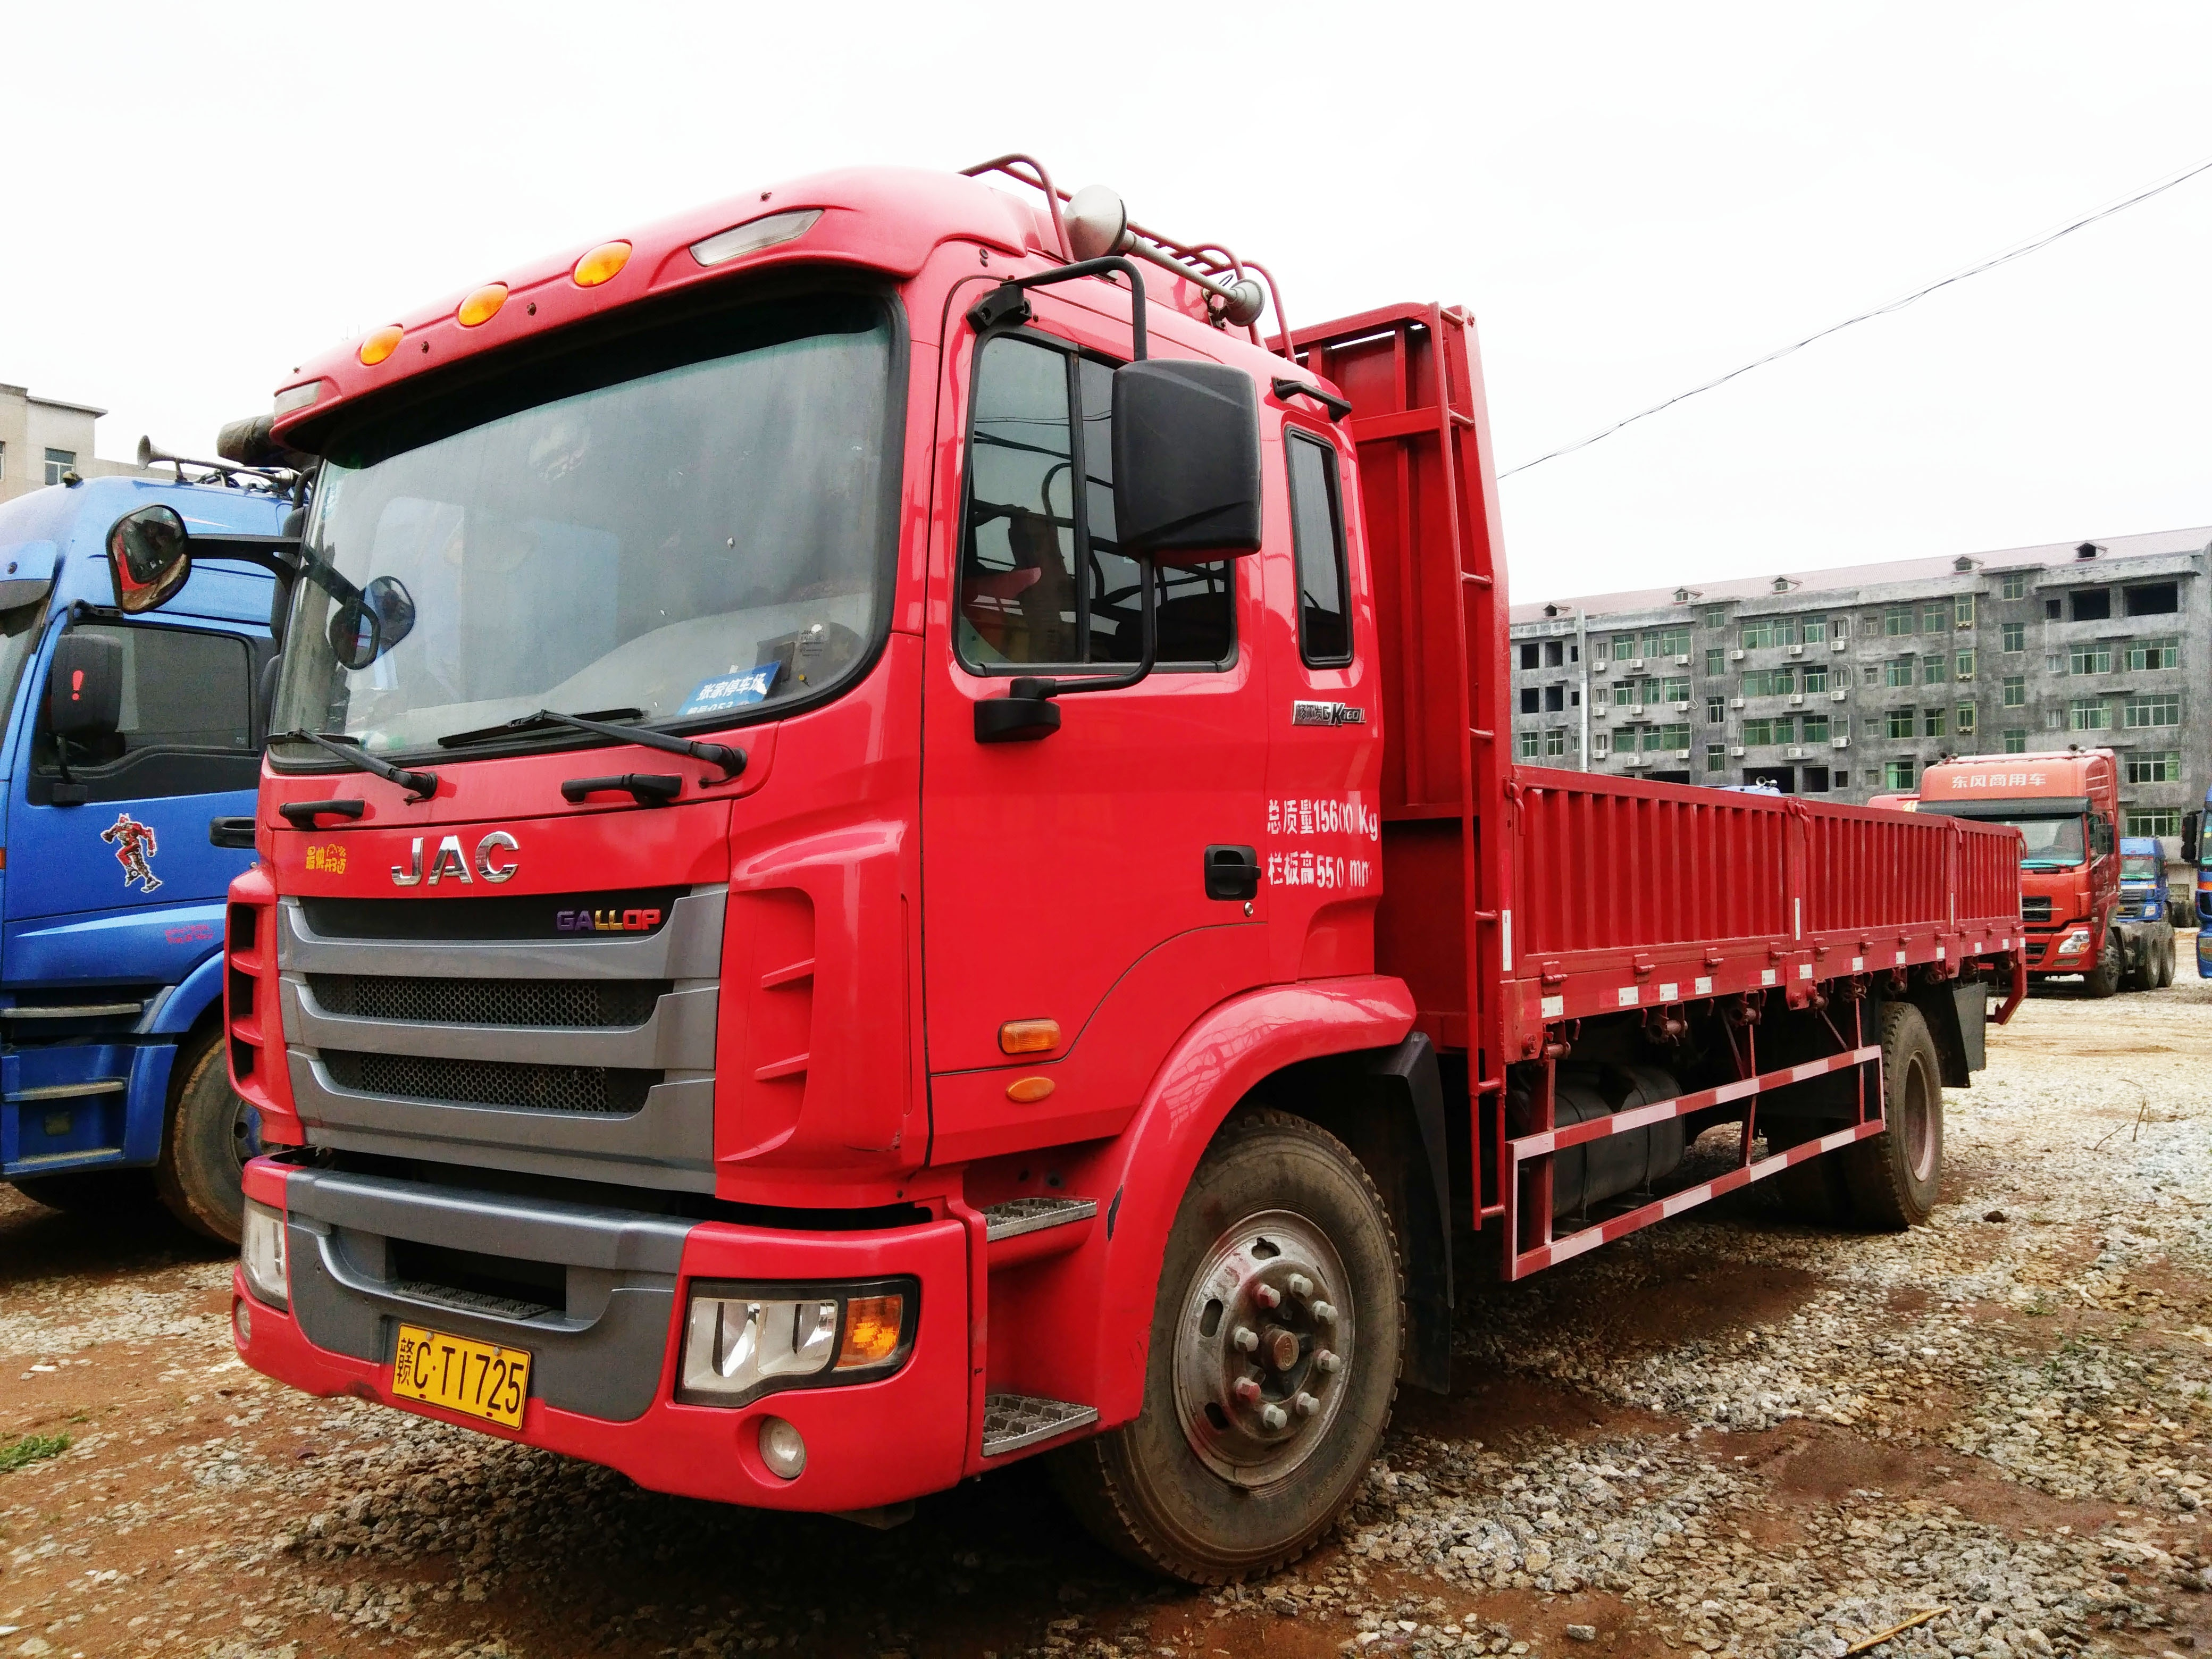heavy truck: (225, 138, 2038, 1563)
